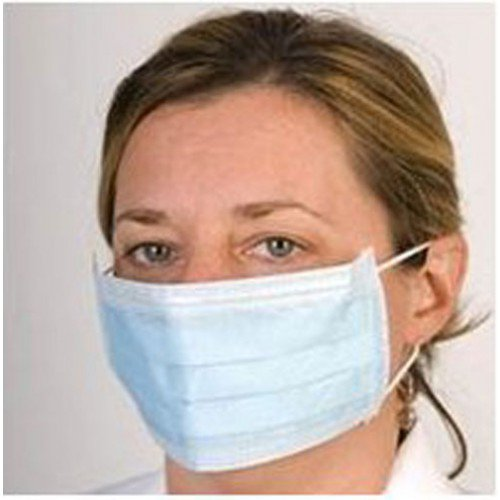mask: (90, 272, 421, 440)
